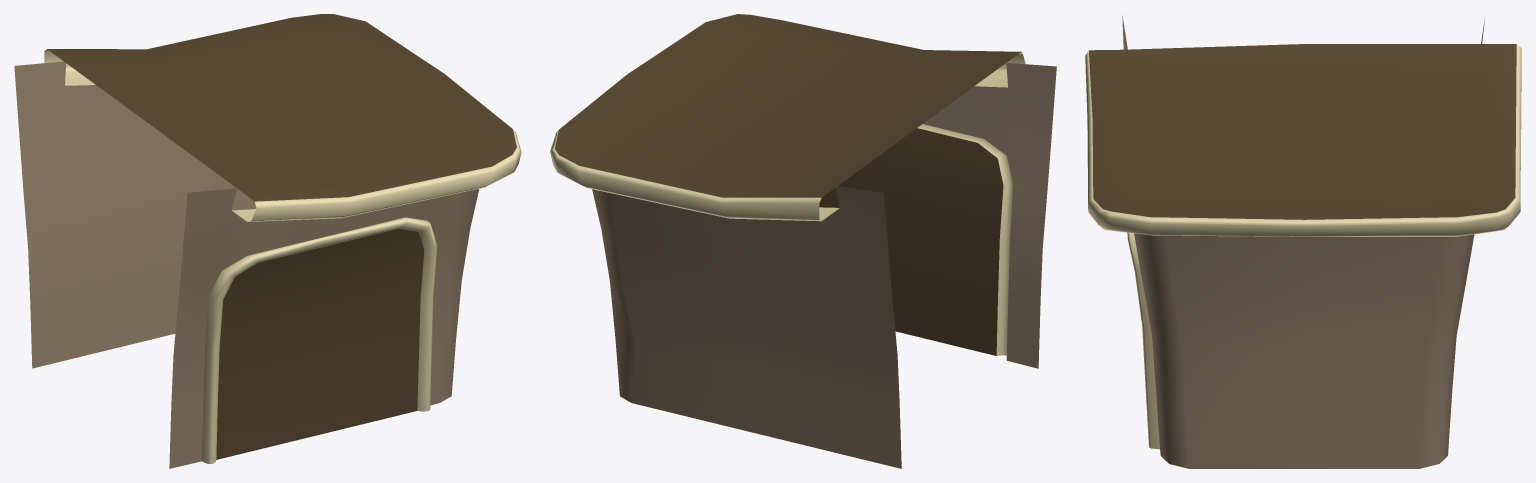
The model's file is HouseGarage_MDL.fbx.
The picture shows the model from 3 angles, left to right: view 1: azimuth 30°, elevation 25°; view 2: azimuth 150°, elevation 25°; view 3: azimuth 270°, elevation 25°; orthographic projection. The views are drawn at different scales.
Visible parts, largest first — view 1: HouseGarage_GEO; view 2: HouseGarage_GEO; view 3: HouseGarage_GEO.
Part boxes in pixels (left/top/right/bottom): HouseGarage_GEO: left=14, top=14, right=521, bottom=468; HouseGarage_GEO: left=550, top=14, right=1056, bottom=468; HouseGarage_GEO: left=1085, top=15, right=1521, bottom=468.
Bounding box in the file's own units: 371 × 296 × 385.
